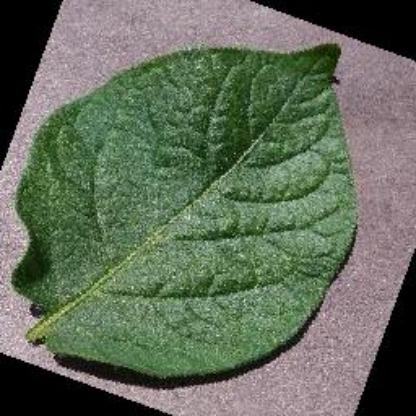Healthy-plant: (11, 36, 358, 386)
